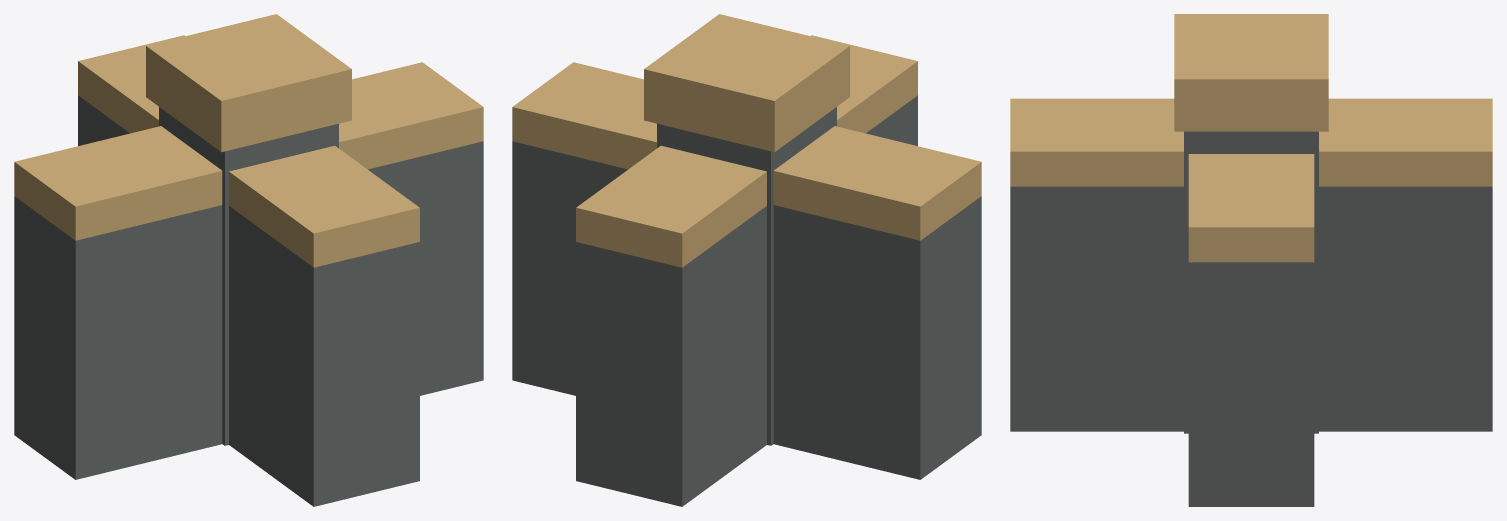
Rendered from SmartWallCross.fbx.
3 renders of one model, left to right at view 1: azimuth 30°, elevation 25°; view 2: azimuth 150°, elevation 25°; view 3: azimuth 270°, elevation 25°, orthographic. The views are drawn at different scales.
Visible parts, largest first — view 1: SmartWallCross; view 2: SmartWallCross; view 3: SmartWallCross.
Boxes of the visible parts, x1,y1,x2,y2 form: SmartWallCross: (14, 14, 483, 506); SmartWallCross: (512, 14, 981, 506); SmartWallCross: (1010, 14, 1492, 506).
Bounding box in the file's own units: 100 × 82 × 100.
